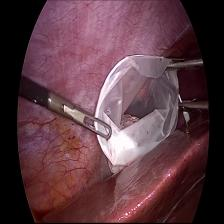Specimen Bag: (98, 43, 171, 170)
